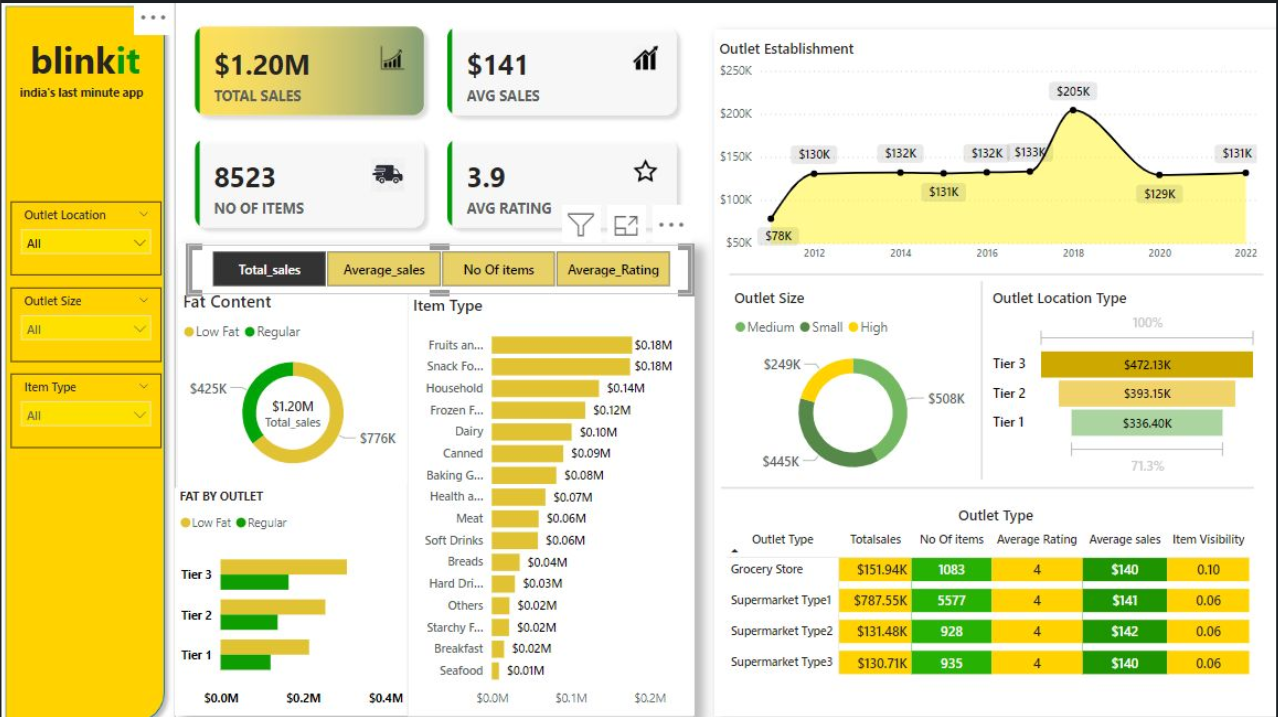

What the dashboard file says about the page in this screenshot:
{"tool":"powerbi","page":{"name":"Page 1","canvas":[1400,800],"ordinal":0},"visuals":[{"type":"group","id":"g1","title":"Group 1","box":[809.7,0,589.8,793.6],"z":0,"group":"g4"},{"type":"shape","box":[0,9.4,190.3,784.2],"z":0},{"type":"group","id":"g2","title":"Group 1","box":[196.1,227.2,589.8,573.7],"z":0,"group":"g3"},{"type":"textbox","box":[0,22.8,183.6,63],"z":1000},{"type":"shape","box":[230.6,506.7,273.5,13.4],"z":1000,"group":"g3"},{"type":"textbox","box":[0,75.1,194.4,41.6],"z":2000},{"type":"shape","box":[503.5,315.3,20.1,454.4],"z":2000,"group":"g3"},{"type":"cardVisual","fields":{"Data":["BlinkIT Grocery Data.Total_Sales","BlinkIT Grocery Data.Avg_Sales","BlinkIT Grocery Data.No_of_Item's","BlinkIT Grocery Data.Avg_Rating"]},"box":[190.3,0,597.9,234.6],"z":3000},{"type":"shape","box":[809.7,0,589.8,793.6],"z":4000,"group":"g1"},{"type":"group","id":"g3","title":"Group 2","box":[196.1,227.2,589.8,573.7],"z":4000},{"type":"shape","box":[196.1,227.2,589.8,573.7],"z":4000,"group":"g2"},{"type":"group","id":"g4","title":"Group 2","box":[809.7,0,589.8,793.6],"z":5000},{"type":"slicer","fields":{"Values":["Metrix.Metrix"]},"box":[211.6,244.6,555,50.9],"z":5000,"group":"g2"},{"type":"lineChart","title":"OUTLET    ESTABLISHEMENT","fields":{"Y":["BlinkIT Grocery Data.Total_Sales"],"Category":["BlinkIT Grocery Data.Outlet Establishment Year"]},"box":[828.9,18.8,553.6,261.4],"z":5001,"group":"g4"},{"type":"shape","box":[821.7,280.2,565.7,14.7],"z":5001},{"type":"clusteredBarChart","title":"FAT BY OUTLET","fields":{"Y":["BlinkIT Grocery Data.Total_Sales"],"Category":["BlinkIT Grocery Data.Outlet Location Type"],"Series":["BlinkIT Grocery Data.Item Fat Content"]},"box":[211.6,532.8,269.7,250.7],"z":6000,"group":"g2"},{"type":"barChart","title":"ITEM TYPE","fields":{"Y":["BlinkIT Grocery Data.Total_Sales"],"Category":["BlinkIT Grocery Data.Item Type"]},"box":[500.7,304.9,265.9,478.6],"z":9000,"group":"g2"},{"type":"donutChart","title":"FAT CONTENT","fields":{"Y":["BlinkIT Grocery Data.Total_Sales"],"Category":["BlinkIT Grocery Data.Outlet Type"]},"box":[828.4,296.2,277.5,235.9],"z":10000},{"type":"donutChart","title":"FAT CONTENT","fields":{"Y":["BlinkIT Grocery Data.Total_Sales"],"Category":["BlinkIT Grocery Data.Item Fat Content"]},"box":[211.6,296.9,269.7,226.5],"z":10000,"group":"g2"},{"type":"card","fields":{"Values":["BlinkIT Grocery Data.Total_Sales"]},"box":[311,410.8,71,46.9],"z":11000,"group":"g2"}]}

Visuals, with their boxes in screenshot pixels (x1, y1, x2, y2), scaled from the page's 1400x800 canvas onto the 1278x717 screenshot:
"Group 1" group: bbox=[739, 0, 1277, 711]
shape: bbox=[0, 8, 174, 711]
"Group 1" group: bbox=[179, 204, 717, 716]
textbox: bbox=[0, 20, 168, 77]
shape: bbox=[211, 454, 460, 466]
textbox: bbox=[0, 67, 177, 105]
shape: bbox=[460, 283, 478, 690]
cardVisual - BlinkIT Grocery Data.Total_Sales x BlinkIT Grocery Data.Avg_Sales: bbox=[174, 0, 720, 210]
shape: bbox=[739, 0, 1277, 711]
"Group 2" group: bbox=[179, 204, 717, 716]
shape: bbox=[179, 204, 717, 716]
"Group 2" group: bbox=[739, 0, 1277, 711]
slicer - Metrix.Metrix: bbox=[193, 219, 700, 265]
"OUTLET    ESTABLISHEMENT" lineChart: bbox=[757, 17, 1262, 251]
shape: bbox=[750, 251, 1266, 264]
"FAT BY OUTLET" clusteredBarChart: bbox=[193, 478, 439, 702]
"ITEM TYPE" barChart: bbox=[457, 273, 700, 702]
"FAT CONTENT" donutChart: bbox=[756, 265, 1010, 477]
"FAT CONTENT" donutChart: bbox=[193, 266, 439, 469]
card - BlinkIT Grocery Data.Total_Sales: bbox=[284, 368, 349, 410]
